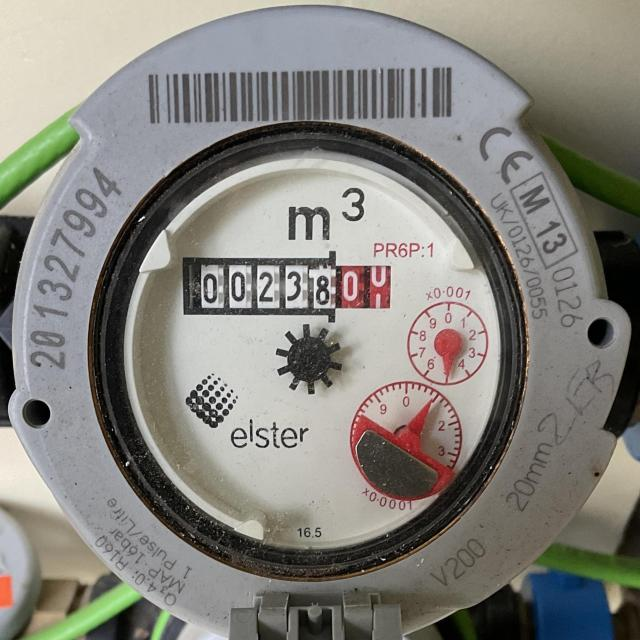gaz_meter: (120, 144, 514, 573)
indication: (188, 258, 394, 314)
